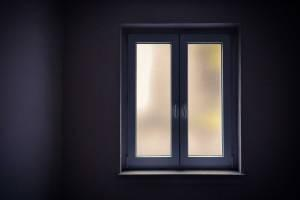window: (120, 24, 239, 174)
